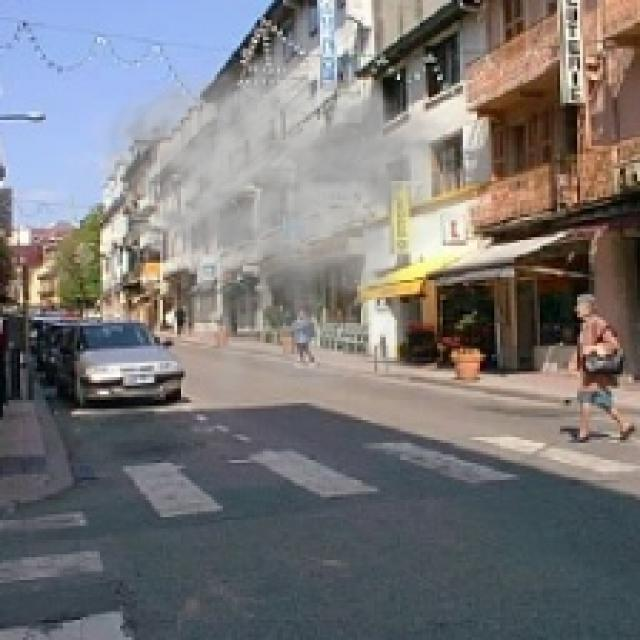smoke: (86, 51, 491, 426)
